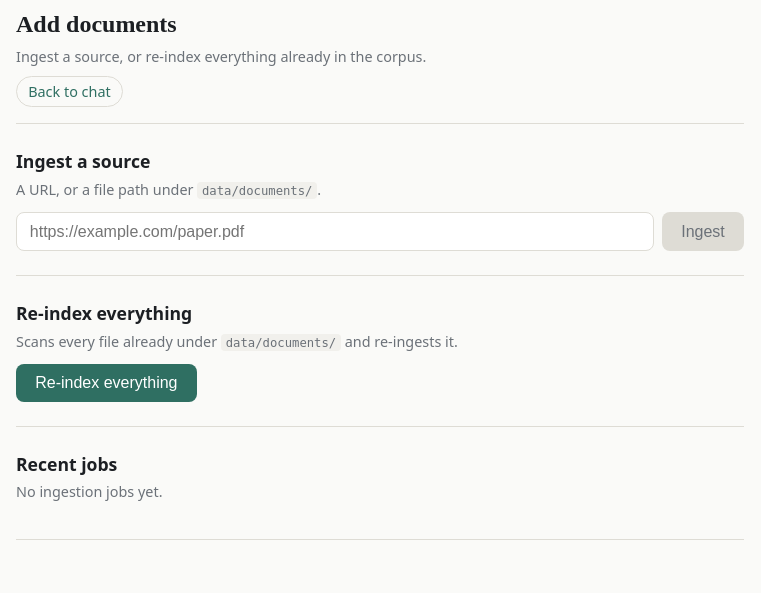
it: IngestPage › re-indexes everything and shows the result once the job finishes
Click the button "Re-index everything".
click(106, 383)  # box [16,364,197,402]
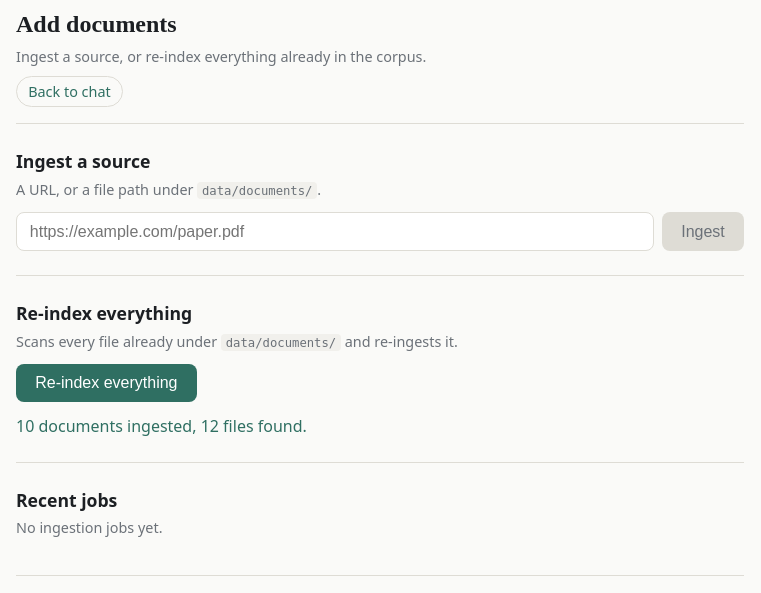
Result: the text "10 documents ingested, 12 files found." is shown at [16,415,307,437]
